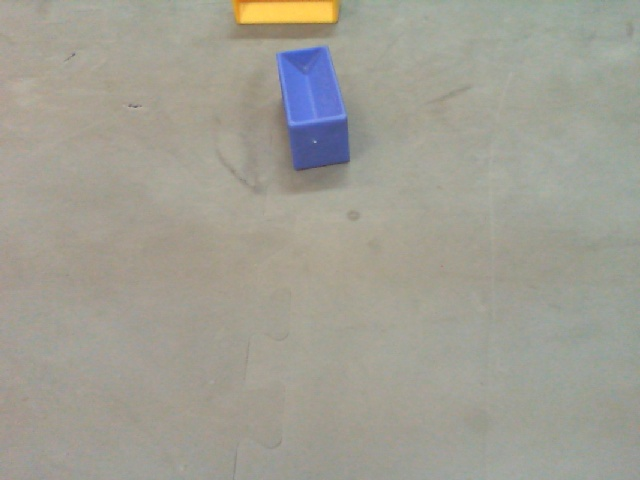BlueSample: (275, 44, 352, 170)
YellowSample: (231, 1, 342, 27)
